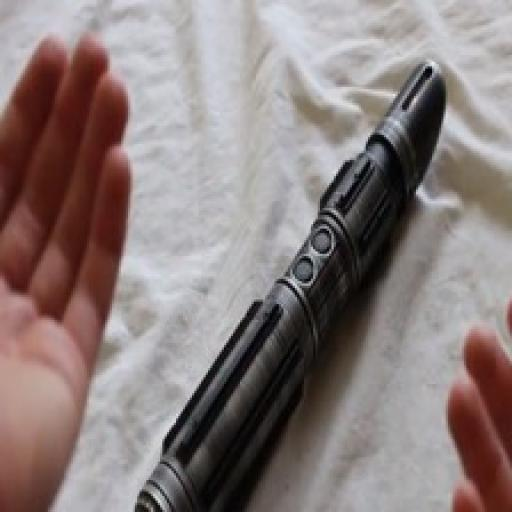lightsaber: (114, 61, 445, 512)
